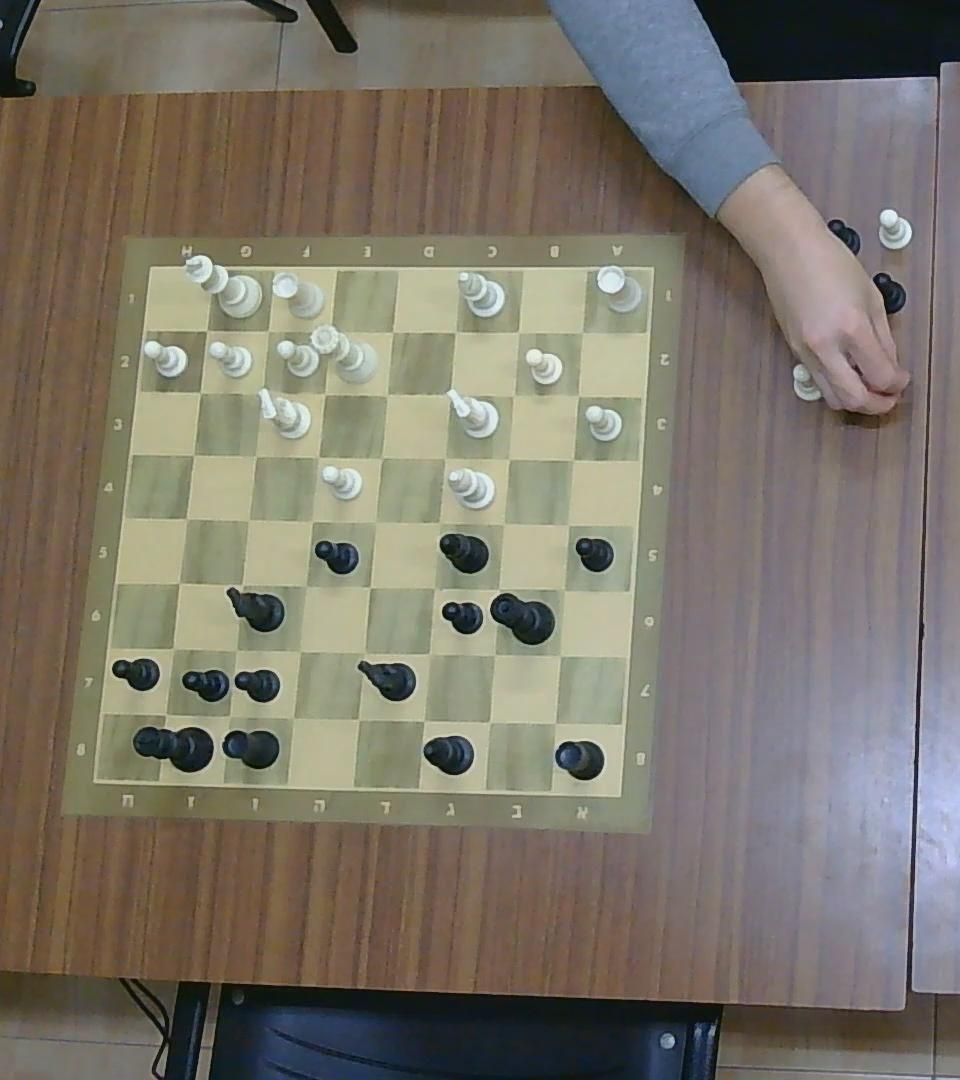xcorner: (215, 702, 242, 728), (280, 703, 305, 730), (153, 701, 178, 725), (288, 639, 311, 663), (162, 637, 185, 661), (347, 707, 370, 730), (413, 708, 435, 732), (542, 711, 566, 733), (167, 571, 190, 593), (230, 572, 252, 595), (318, 321, 341, 343), (175, 507, 197, 529), (363, 510, 385, 532), (224, 638, 246, 660), (438, 382, 460, 404), (182, 443, 204, 464), (483, 643, 504, 665), (351, 642, 373, 663), (567, 384, 588, 405), (493, 513, 513, 535), (295, 574, 315, 596), (245, 445, 267, 465), (197, 319, 217, 341), (479, 712, 501, 732), (423, 576, 443, 598), (428, 512, 448, 534), (237, 509, 258, 529), (563, 448, 583, 469), (549, 646, 570, 666), (302, 510, 321, 532), (370, 447, 390, 467), (558, 514, 578, 534), (360, 577, 380, 597), (258, 320, 278, 340), (420, 644, 440, 664), (383, 322, 403, 342), (252, 381, 272, 401), (488, 577, 508, 597), (499, 448, 518, 469), (376, 384, 395, 405), (445, 320, 464, 341), (504, 384, 523, 405), (190, 381, 209, 401), (308, 445, 327, 465), (435, 447, 453, 467), (315, 383, 333, 403), (573, 322, 591, 342), (510, 321, 528, 340), (555, 579, 573, 598)
